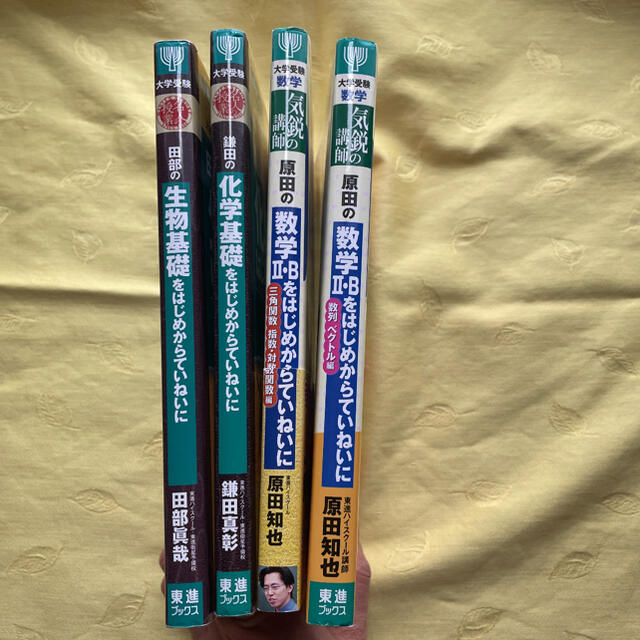book: (311, 32, 373, 627), (149, 31, 207, 630), (255, 16, 311, 617), (203, 17, 256, 625)
